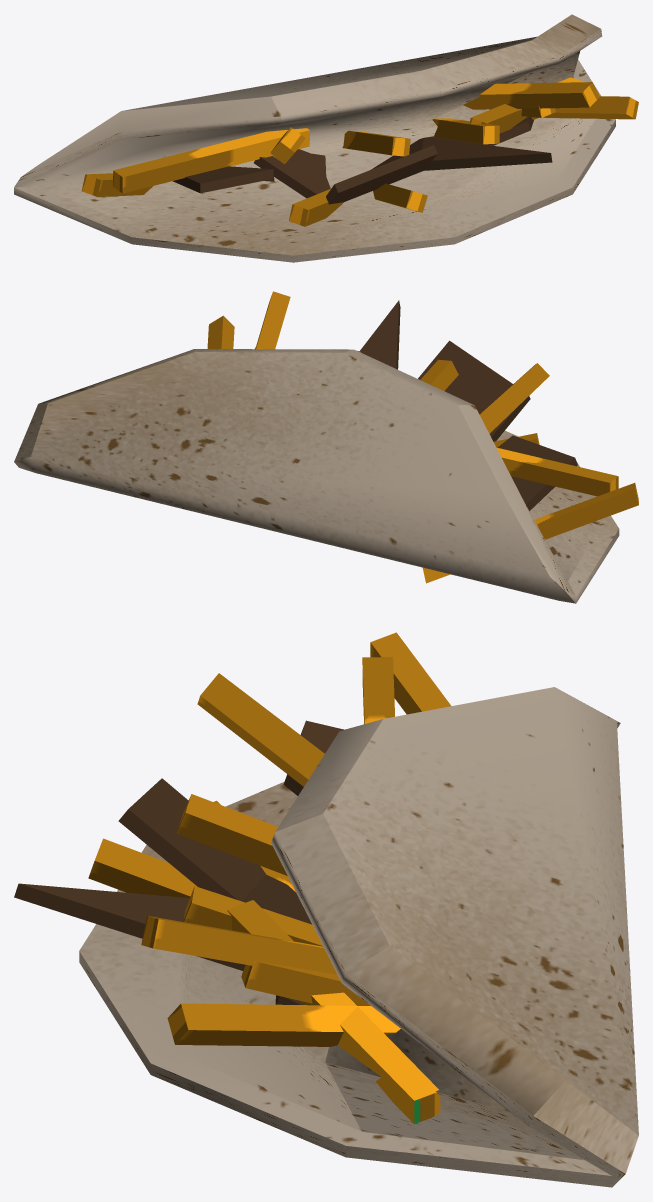
The model's file is Bula.fbx.
3 views of the same model, one above another, from view 1: azimuth 30°, elevation 25°; view 2: azimuth 150°, elevation 25°; view 3: azimuth 270°, elevation 25° (orthographic). The views are drawn at different scales.
Parts seen in each view (by area): view 1: Bula, Frytobuła, Bula2, Bula1; view 2: Bula, Frytobuła, Bula2; view 3: Bula, Frytobuła, Bula2, Bula1.
Boxes of the visible parts, x1,y1,x2,y2 form: Bula: [14, 14, 615, 262]; Frytobuła: [33, 36, 638, 226]; Bula2: [82, 82, 634, 226]; Bula1: [175, 154, 437, 204]; Bula: [14, 349, 619, 603]; Frytobuła: [208, 291, 638, 527]; Bula2: [207, 291, 638, 583]; Bula: [79, 687, 638, 1187]; Frytobuła: [15, 632, 451, 1123]; Bula2: [153, 635, 446, 1123]; Bula1: [14, 780, 300, 970].
Bounding box in the file's own units: 0.3625 × 0.2109 × 0.0878.
1 material, 1 textured.
